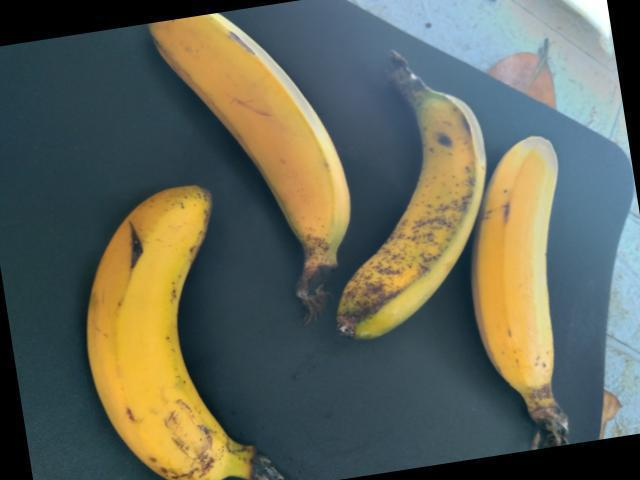freshripe: (142, 0, 359, 280), (454, 132, 599, 426)
ripe: (80, 176, 295, 479), (330, 67, 503, 341)
